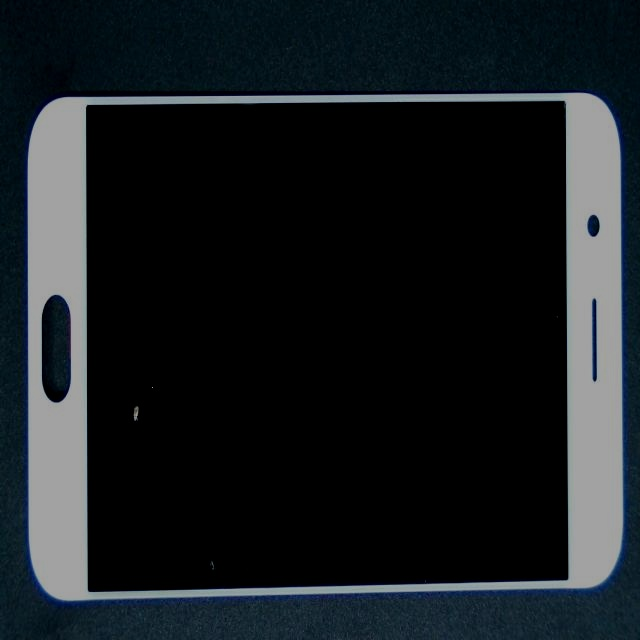stain: (46, 201, 187, 640)
